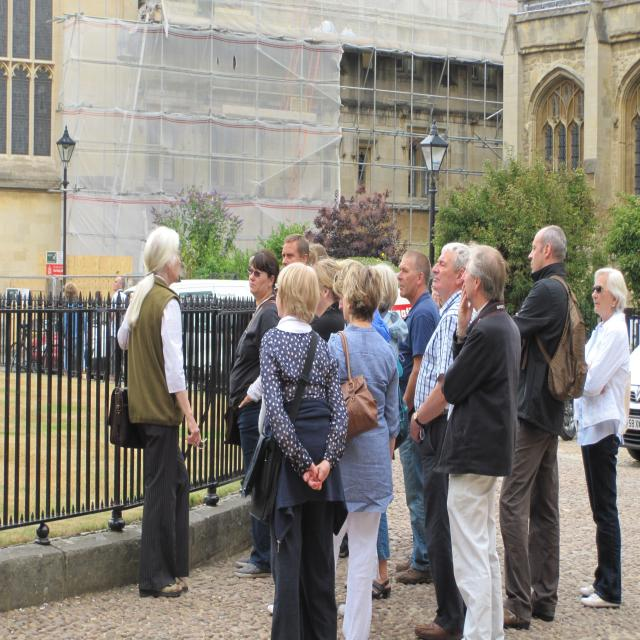body: (182, 41, 280, 577), (498, 223, 588, 629), (106, 224, 203, 598), (257, 259, 350, 640), (441, 243, 522, 640), (326, 261, 401, 640), (413, 242, 478, 640), (573, 267, 633, 609), (332, 262, 390, 598), (392, 248, 444, 589), (368, 260, 410, 565), (308, 258, 350, 344), (64, 282, 86, 375), (110, 276, 127, 382), (278, 232, 330, 264), (430, 284, 443, 312)
